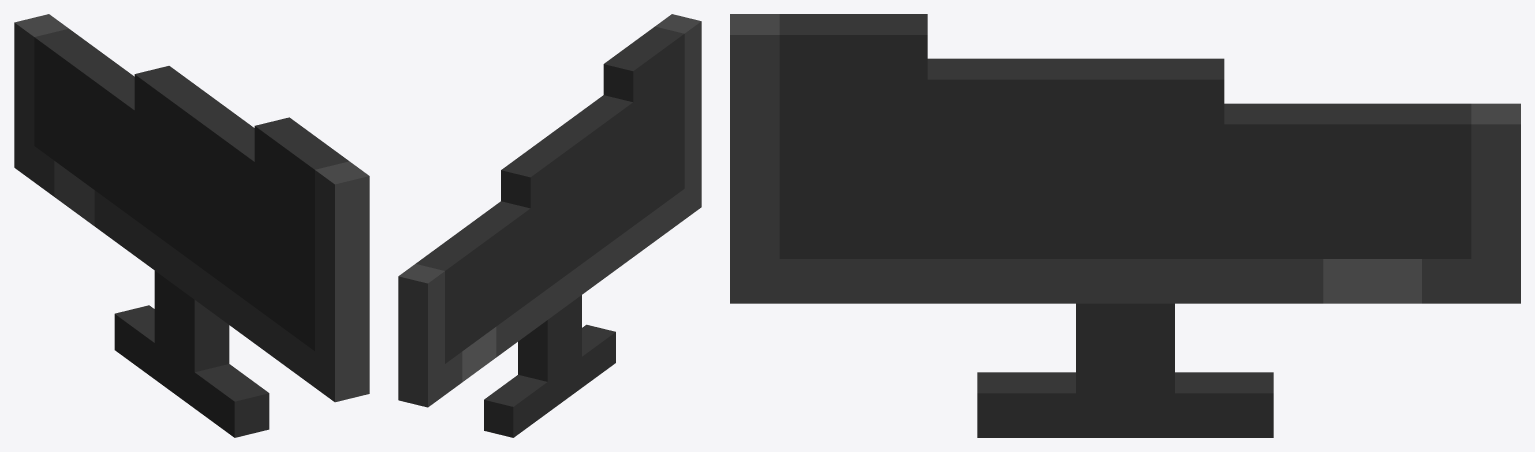
The model's file is Computer1.obj.
The picture shows the model from 3 angles, left to right: view 1: azimuth 30°, elevation 25°; view 2: azimuth 150°, elevation 25°; view 3: azimuth 270°, elevation 25°; orthographic projection. The views are drawn at different scales.
Parts seen in each view (by area): view 1: Computer1; view 2: Computer1; view 3: Computer1.
Boxes of the visible parts, x1=… form: Computer1: x1=14, y1=14, x2=369, y2=437; Computer1: x1=398, y1=14, x2=701, y2=437; Computer1: x1=730, y1=14, x2=1520, y2=437.
Bounding box in the file's own units: 1 × 9 × 16.
Materials: 1 (1 with a texture image).
